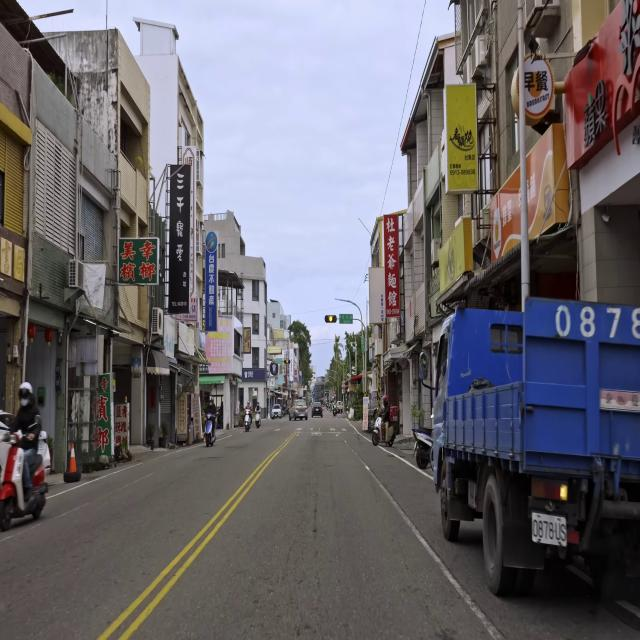yellow light: (324, 315, 337, 323), (284, 360, 291, 364)
